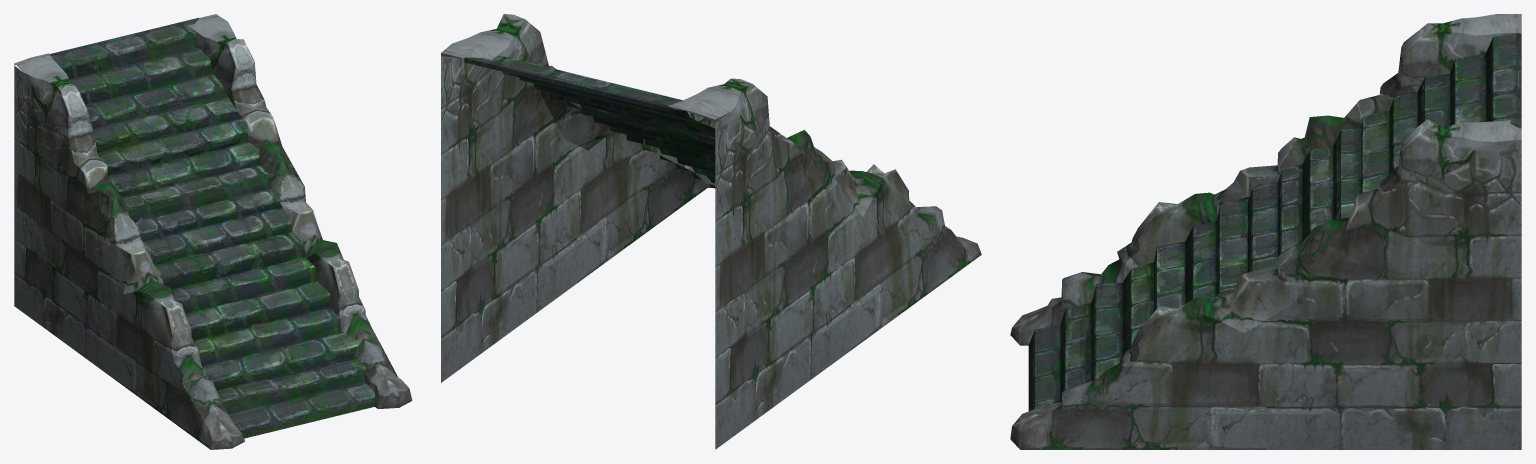
Rendered from stemple_wall_stair_01.fbx.
The picture shows the model from 3 angles, left to right: view 1: azimuth 30°, elevation 25°; view 2: azimuth 150°, elevation 25°; view 3: azimuth 270°, elevation 25°; orthographic projection. The views are drawn at different scales.
Visible parts, largest first — view 1: stemple_wall_stair_01-0; view 2: stemple_wall_stair_01-0; view 3: stemple_wall_stair_01-0.
Boxes of the visible parts, x1=… form: stemple_wall_stair_01-0: x1=14, y1=14, x2=412, y2=449; stemple_wall_stair_01-0: x1=441, y1=14, x2=981, y2=449; stemple_wall_stair_01-0: x1=1010, y1=14, x2=1521, y2=449.
Size of the model in its own units: 4.91 by 5.69 by 8.3.
